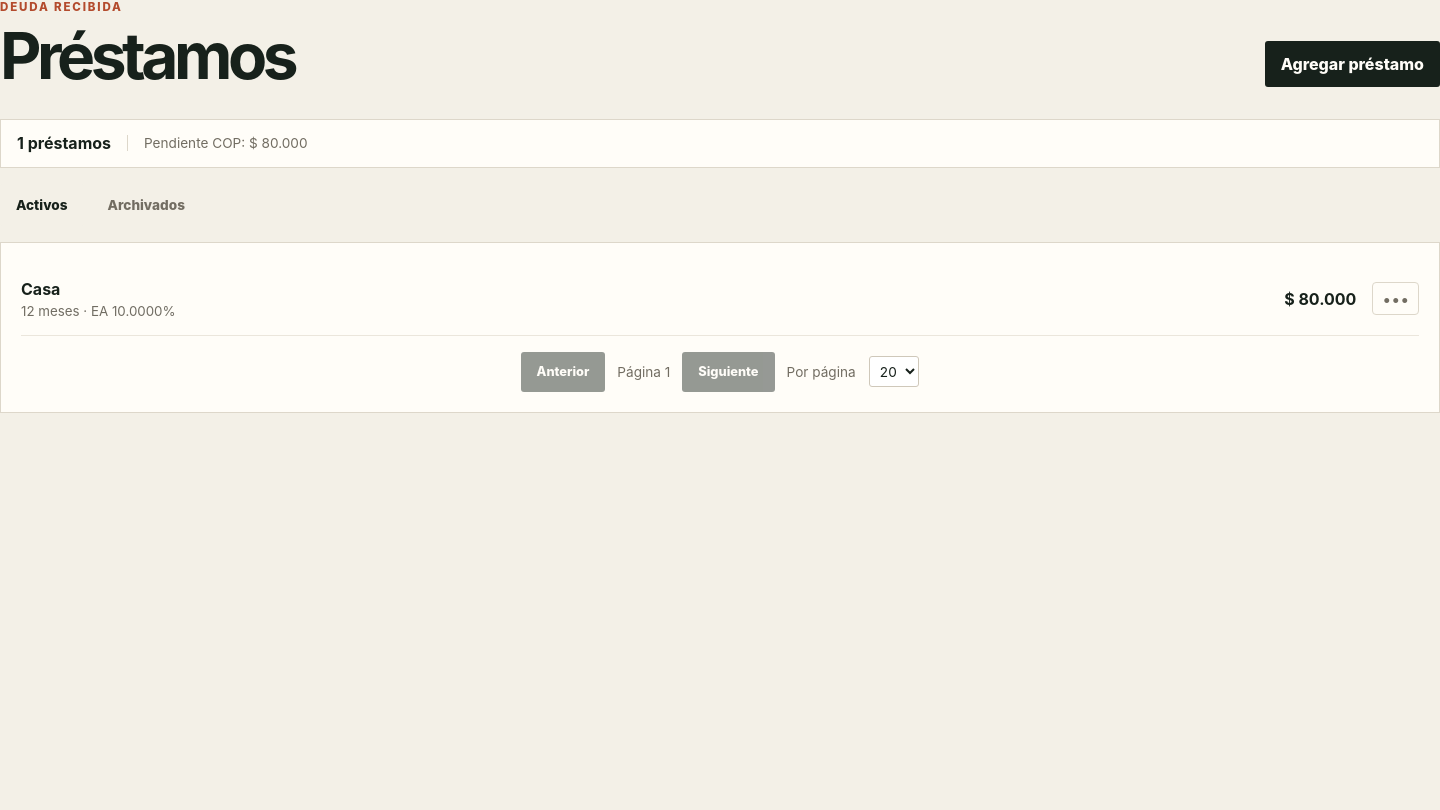
loan closing › shows the close confirmation and closes the loan successfully
expect the text "Casa" is shown: met, box [21, 279, 60, 299]
Click the heading named "Acciones" at [1396, 299], box [1372, 282, 1419, 315]
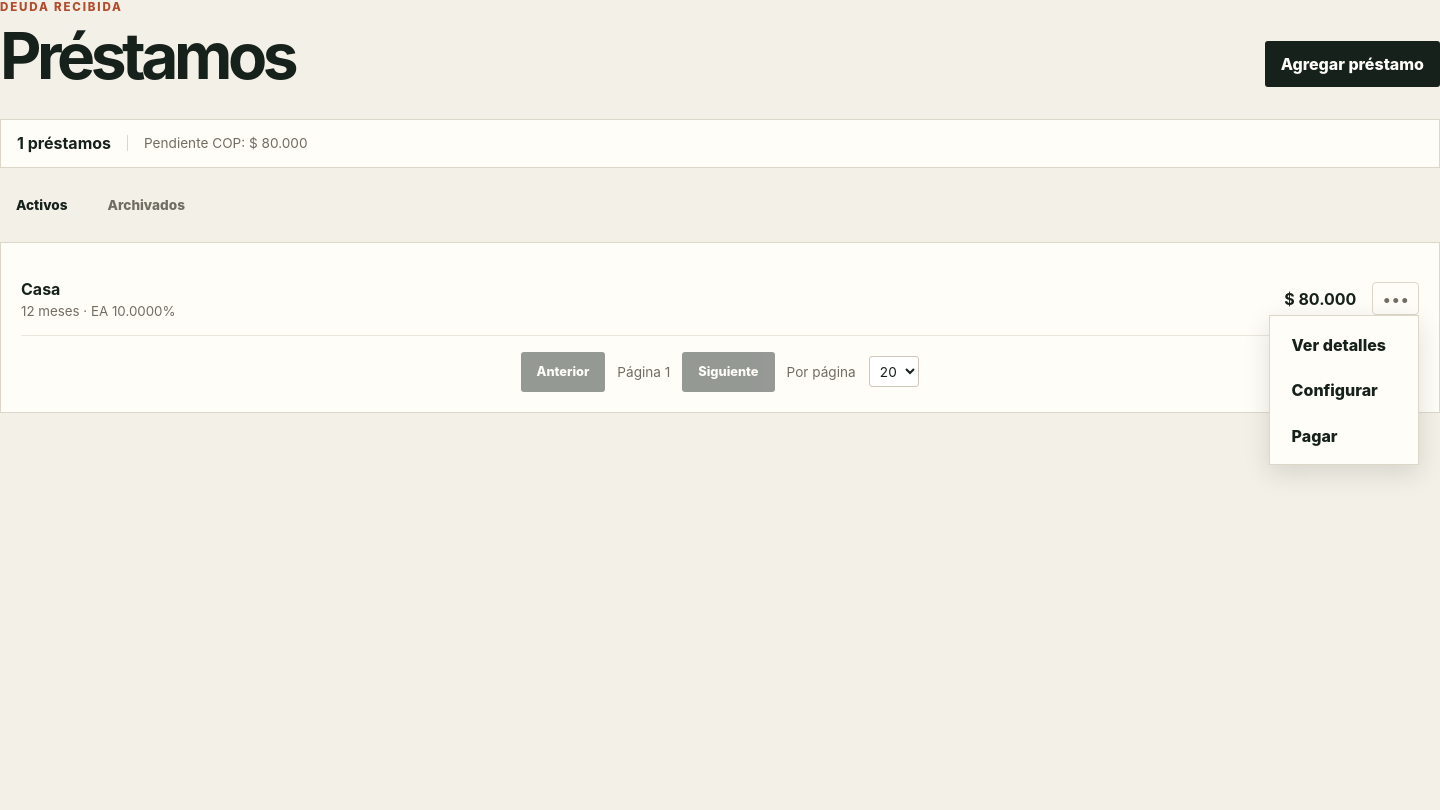
Click the button "Configurar" at [1344, 390], box [1276, 367, 1412, 413]
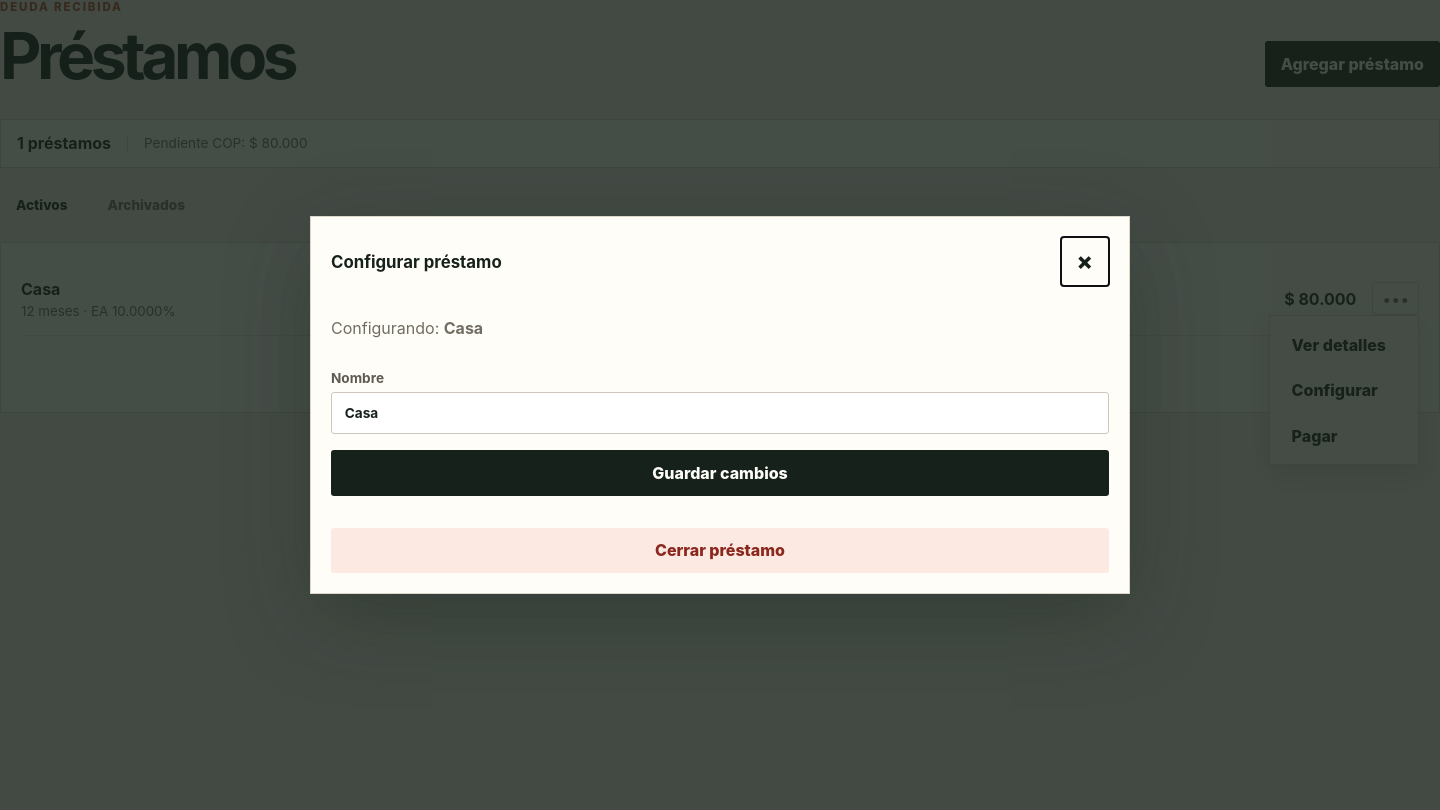
expect the field labelled "Nombre" is shown: met, box [331, 392, 1109, 434]
Click the button "Cerrar préstamo" at [720, 550], box [331, 528, 1109, 573]
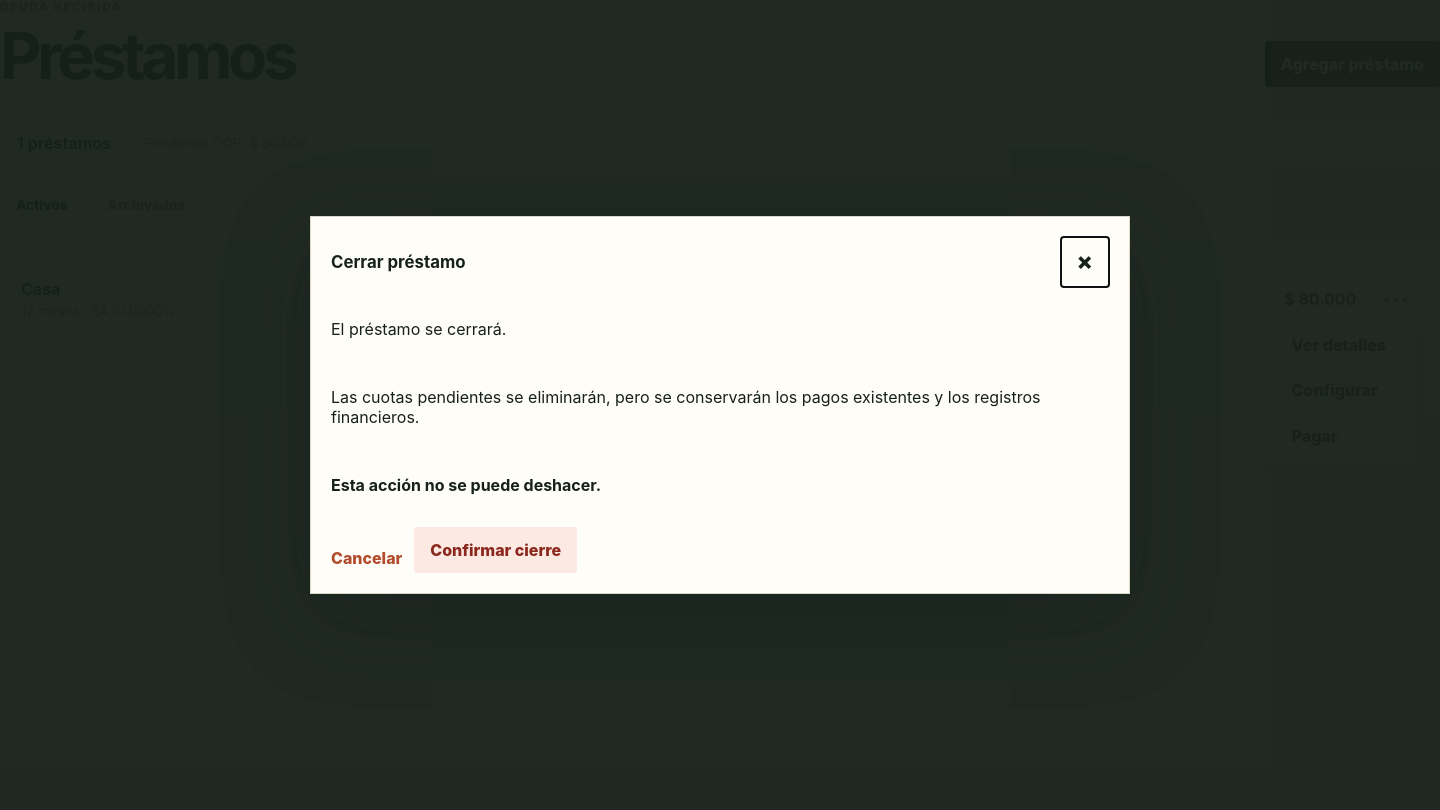
expect the dialog "Cerrar préstamo" shows "cuotas pendientes se eliminarán": met, box [331, 387, 1040, 427]
expect the dialog "Cerrar préstamo" shows "pagos existentes y los registros financieros": met, box [331, 387, 1040, 427]
expect the dialog "Cerrar préstamo" shows "no se puede deshacer": met, box [331, 475, 601, 495]
Click the button "Confirmar cierre" at [496, 550], box [414, 527, 577, 573]
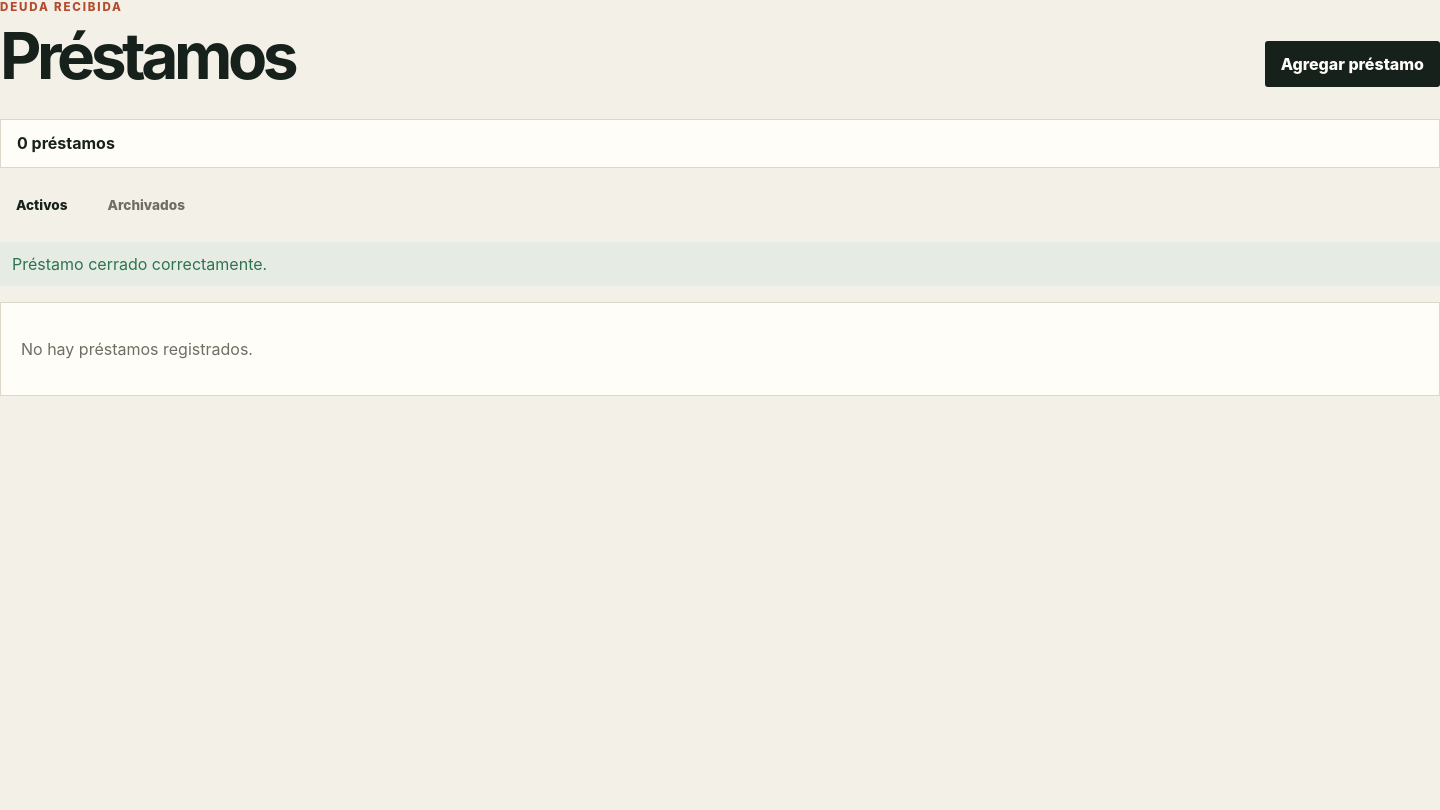
expect the text "Préstamo cerrado correctamente." is shown: met, box [0, 242, 1439, 286]
expect the text "No hay préstamos registrados." is shown: met, box [21, 339, 253, 359]
